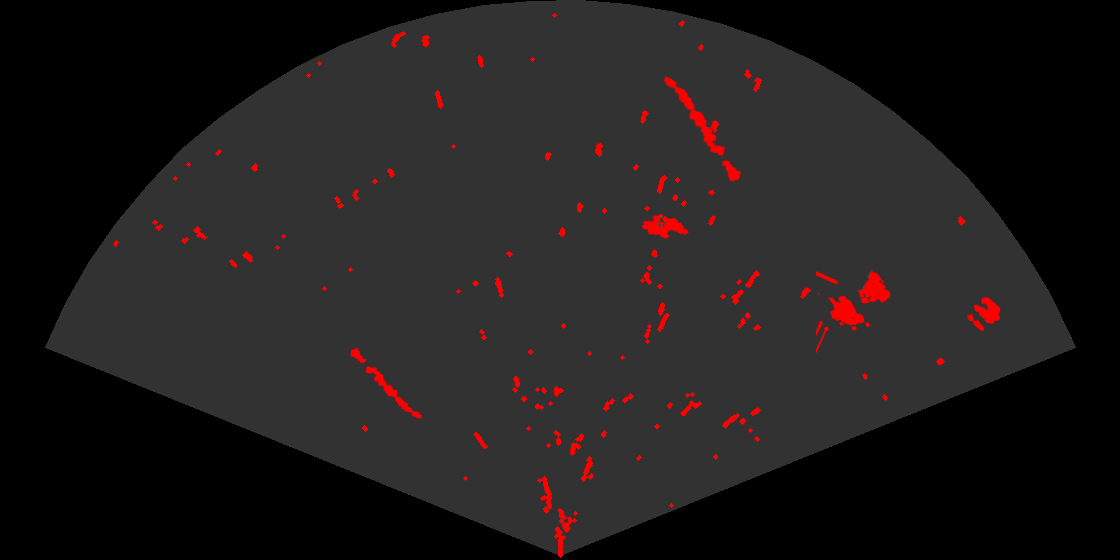AUV: (640, 212, 690, 240)
ball: (965, 295, 1002, 333)
cage: (816, 269, 892, 353)
chain: (662, 75, 743, 184), (349, 346, 423, 420)
